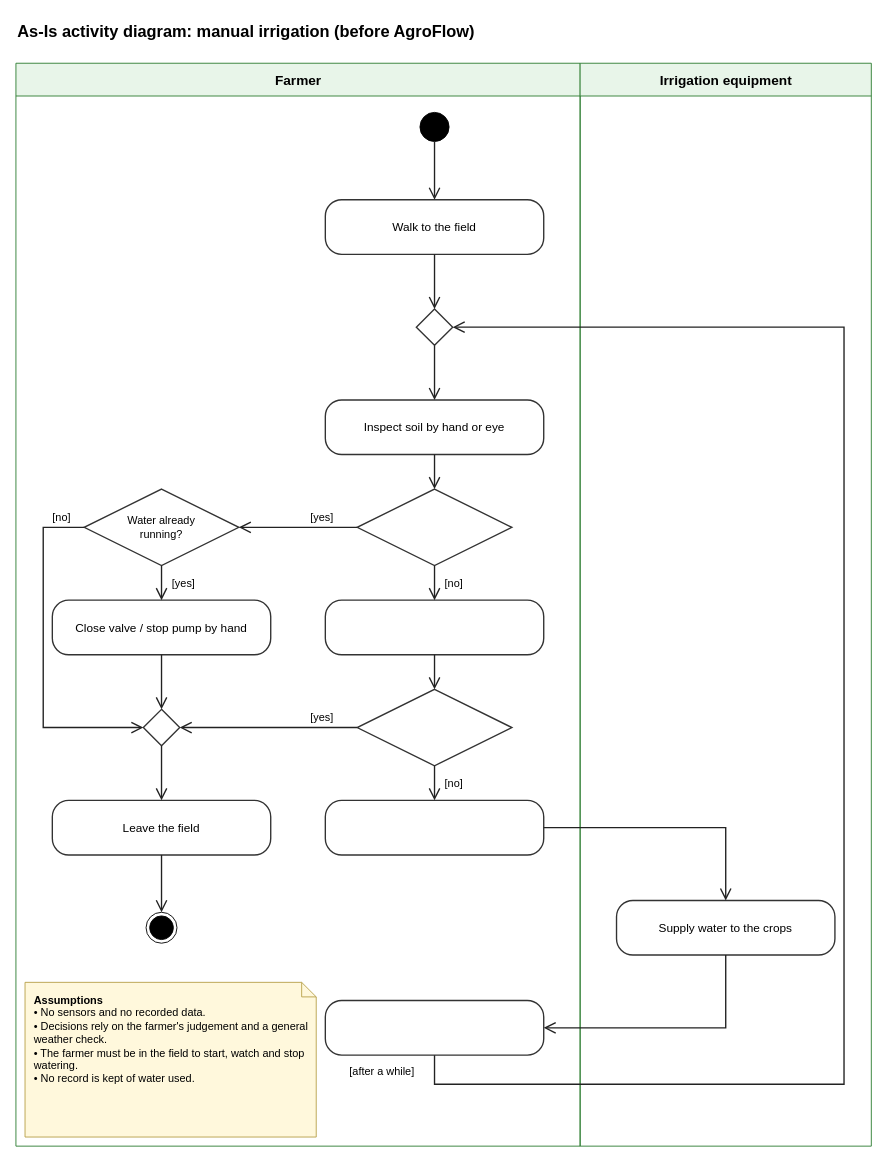
Some shapes in this 887 by 1162 pixel diagram are drawn without their labels. The centre of each missing label's shape, as x and y in pixels:
Check the weather (phone or sky): pixel 434 627
Open valve / start pump by hand: pixel 434 827
Rain expected?: pixel 434 727
Soil moist enough?: pixel 434 527
Wait and watch: pixel 434 1027
